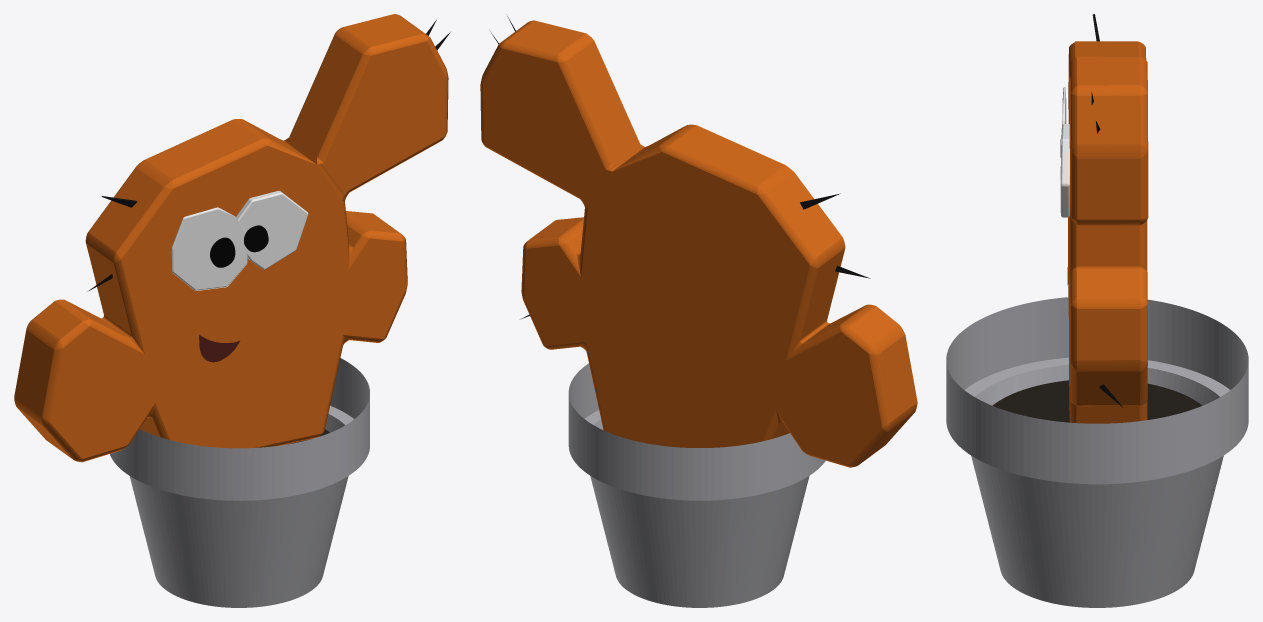
Rendered from cactus3.glb.
3 views of the same model, side by side, from view 1: azimuth 30°, elevation 25°; view 2: azimuth 150°, elevation 25°; view 3: azimuth 270°, elevation 25° (orthographic). The views are drawn at different scales.
Parts seen in each view (by area): view 1: Plane.004, Cylinder.004, Plane.008, Plane.007, Circle.005, Circle.028; view 2: Plane.004, Cylinder.004; view 3: Cylinder.004, Plane.004, Cylinder.005, Plane.007.
Boxes of the visible parts, x1,y1,x2,y2 form: Plane.004: [14, 14, 448, 462]; Cylinder.004: [110, 358, 369, 607]; Plane.008: [171, 207, 247, 290]; Plane.007: [236, 190, 308, 269]; Circle.005: [199, 335, 239, 362]; Circle.028: [210, 237, 235, 267]; Plane.004: [480, 20, 917, 467]; Cylinder.004: [568, 363, 825, 607]; Cylinder.004: [946, 297, 1248, 607]; Plane.004: [1068, 41, 1148, 423]; Cylinder.005: [992, 380, 1202, 422]; Plane.007: [1060, 124, 1069, 217].
Size of the model in its own units: 4.17 by 4.82 by 2.25.
